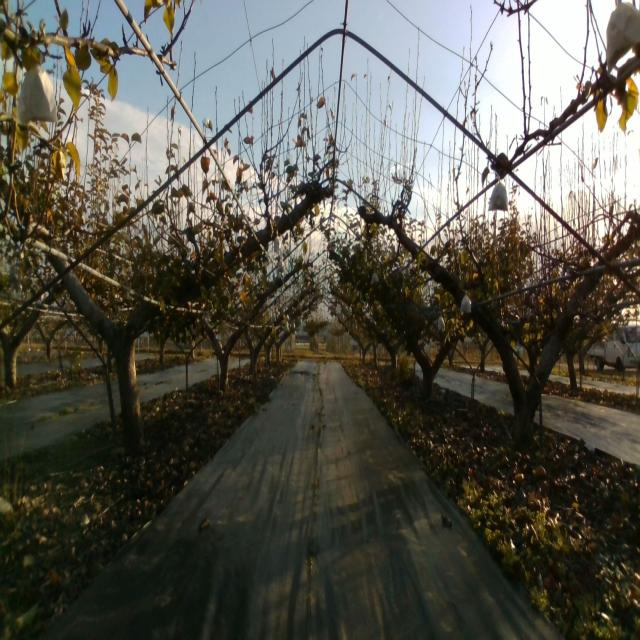pearbags: (605, 1, 640, 74), (15, 64, 57, 124), (488, 178, 508, 211), (458, 289, 472, 314)
